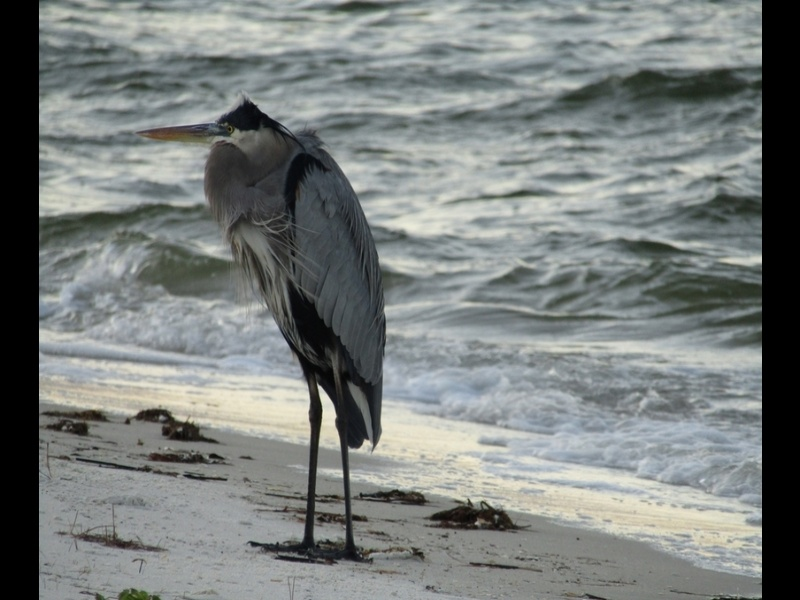heron: (134, 91, 388, 566)
